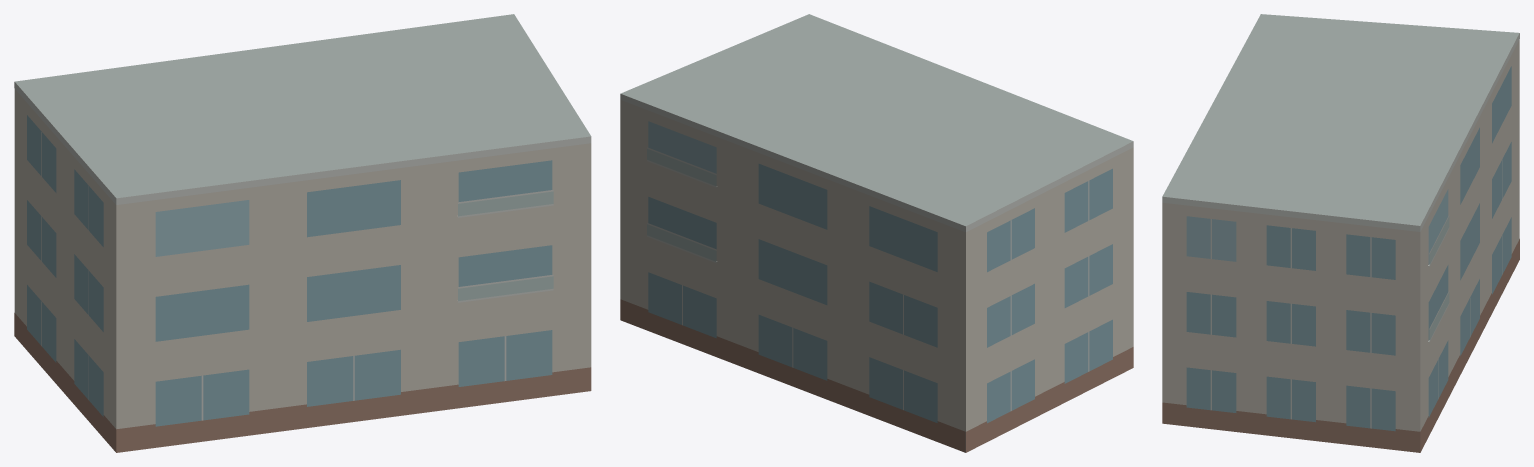
Rendered from survey-upis-32590180.glb.
3 renders of one model, left to right at view 1: azimuth 30°, elevation 25°; view 2: azimuth 150°, elevation 25°; view 3: azimuth 270°, elevation 25°, orthographic. The views are drawn at different scales.
Visible parts, largest first — view 1: survey-upis-32590180.tmp; view 2: survey-upis-32590180.tmp; view 3: survey-upis-32590180.tmp.
Part boxes in pixels (bbox=[...]): survey-upis-32590180.tmp: bbox=[14, 14, 591, 452]; survey-upis-32590180.tmp: bbox=[620, 14, 1133, 452]; survey-upis-32590180.tmp: bbox=[1162, 14, 1519, 452].
Size of the model in its own units: 18.34 by 9.15 by 13.07.
